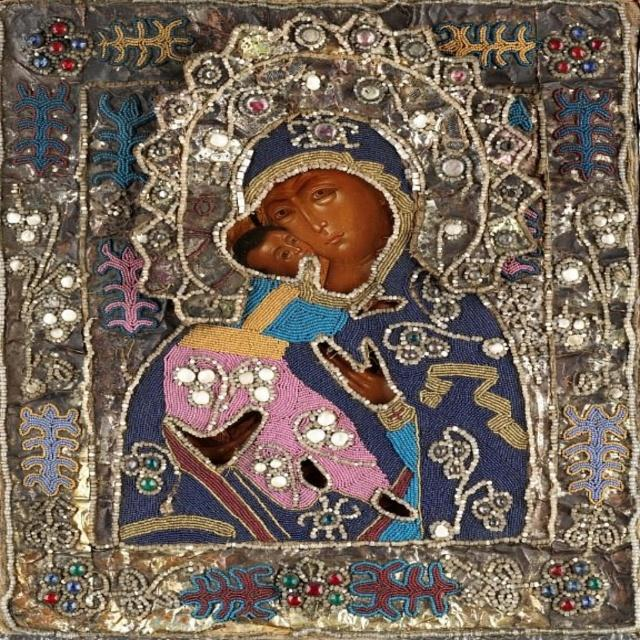aura: (179, 54, 491, 297)
christ_child: (152, 223, 372, 527)
mary_and_child: (83, 23, 552, 547)
